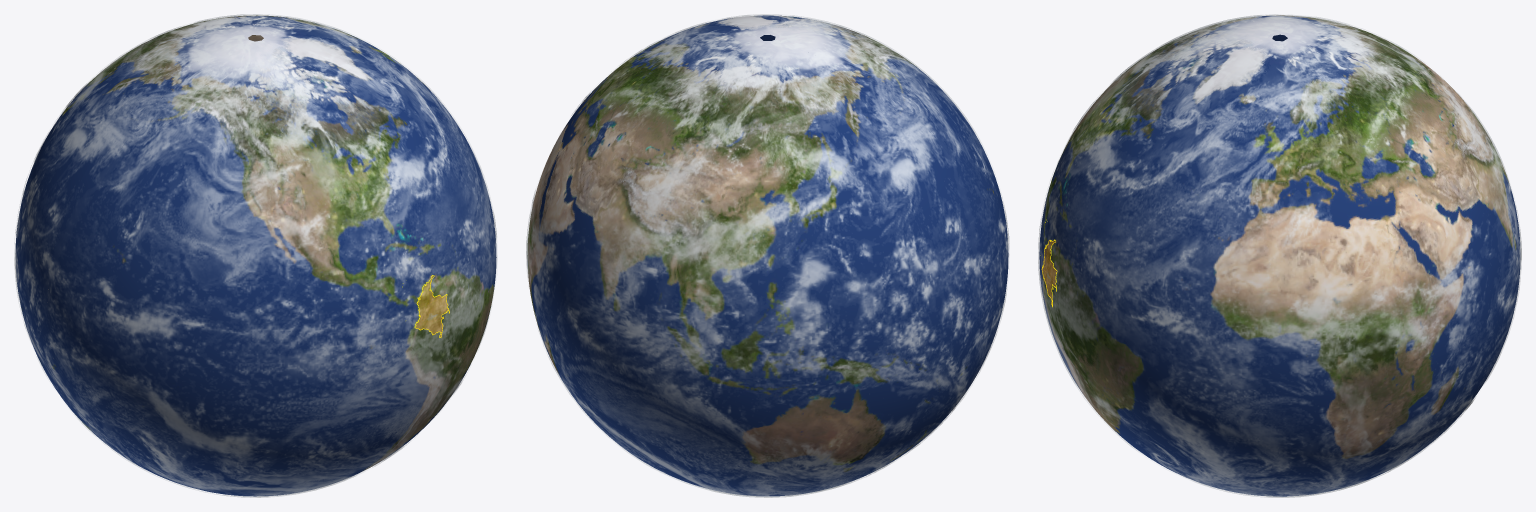
Rendered from tierra-ipuc.glb.
3 renders of one model, left to right at view 1: azimuth 30°, elevation 25°; view 2: azimuth 150°, elevation 25°; view 3: azimuth 270°, elevation 25°, orthographic.
Parts seen in each view (by area): view 1: Earth_Surface, Clouds_Independent, Colombia_Light_Surface_00; view 2: Earth_Surface, Clouds_Independent; view 3: Earth_Surface, Clouds_Independent.
Boxes of the visible parts, bbox=[...] form: Earth_Surface: bbox=[15, 15, 496, 496]; Clouds_Independent: bbox=[14, 14, 497, 497]; Colombia_Light_Surface_00: bbox=[415, 275, 449, 336]; Earth_Surface: bbox=[527, 15, 1008, 496]; Clouds_Independent: bbox=[526, 14, 1009, 497]; Earth_Surface: bbox=[1039, 15, 1520, 496]; Clouds_Independent: bbox=[1038, 14, 1521, 497].
Size of the model in its own units: 2.01 by 2.01 by 2.01.
Materials: 13 (2 with a texture image).
